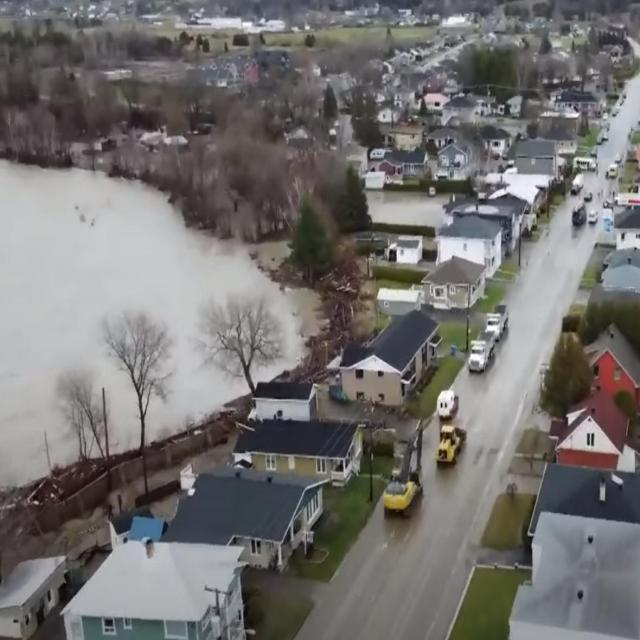flood: (0, 160, 317, 486), (366, 191, 452, 228)
house: (157, 459, 332, 579), (61, 535, 250, 640), (502, 510, 640, 640), (336, 307, 444, 413), (231, 416, 369, 494), (569, 319, 640, 418), (558, 393, 640, 475), (1, 553, 66, 640), (434, 213, 508, 280), (419, 252, 489, 314), (252, 375, 321, 428), (366, 145, 432, 198), (512, 132, 561, 184), (437, 142, 467, 169), (485, 126, 510, 153)
